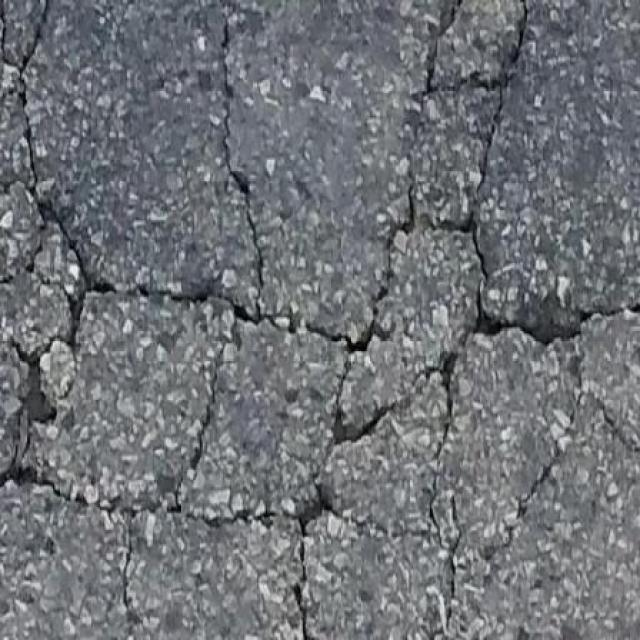Crack: (0, 69, 265, 509), (271, 42, 514, 352), (430, 35, 640, 348), (99, 330, 242, 572), (474, 340, 584, 636), (190, 491, 325, 639), (30, 121, 79, 251), (0, 5, 54, 112), (332, 396, 402, 452), (430, 414, 454, 513), (449, 520, 462, 629), (439, 349, 465, 403), (130, 606, 141, 639), (224, 32, 234, 61), (0, 89, 10, 107), (0, 181, 12, 193)
